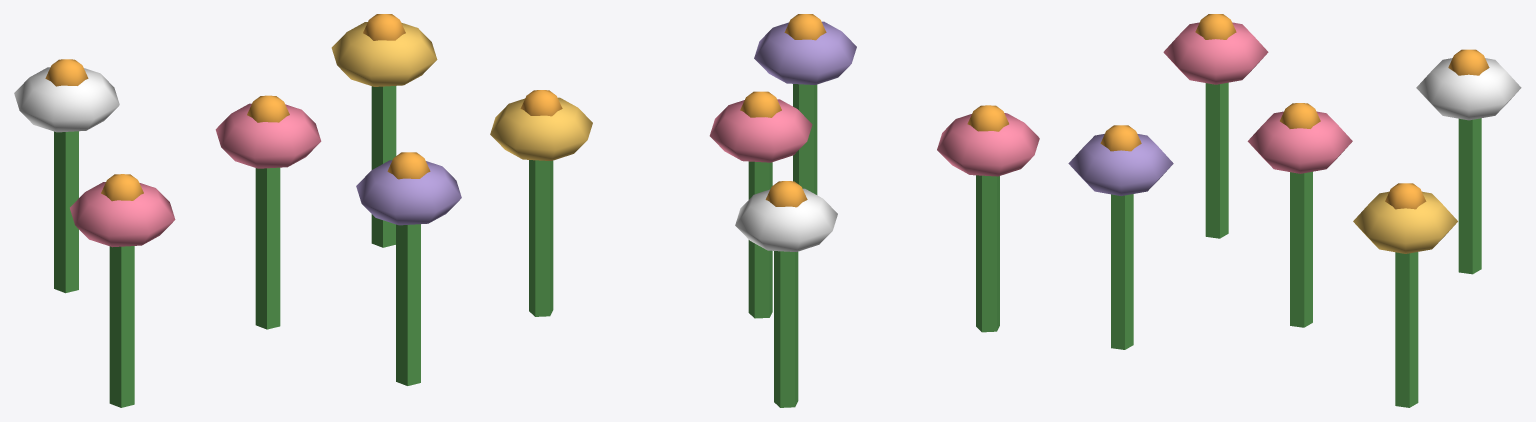
File: flowers.glb
3 renders of one model, left to right at view 1: azimuth 30°, elevation 25°; view 2: azimuth 150°, elevation 25°; view 3: azimuth 270°, elevation 25°, orthographic. The views are drawn at different scales.
Visible parts, largest first — view 1: Petal0, Petal1, Petal2, Petal3, Petal4, Stem0, Stem4, Stem3, Stem2, Stem1, Middle0, Middle2 (+3 smaller); view 2: Petal4, Petal0, Petal2, Petal1, Petal3, Stem1, Stem2, Stem4, Stem0, Stem3, Middle0, Middle4 (+3 smaller); view 3: Petal0, Petal2, Petal1, Petal3, Petal4, Stem4, Stem1, Stem2, Stem0, Stem3, Middle2, Middle3 (+3 smaller).
Boxes of the visible parts, bbox=[...] form: Petal0: bbox=[215, 103, 321, 168]; Petal1: bbox=[331, 22, 437, 86]; Petal2: bbox=[14, 67, 119, 132]; Petal3: bbox=[356, 160, 461, 225]; Petal4: bbox=[70, 182, 175, 247]; Stem0: bbox=[255, 167, 280, 329]; Stem4: bbox=[109, 246, 134, 407]; Stem3: bbox=[396, 224, 420, 385]; Stem2: bbox=[54, 131, 78, 293]; Stem1: bbox=[371, 86, 396, 247]; Middle0: bbox=[247, 95, 289, 122]; Middle2: bbox=[45, 59, 88, 86]; Petal4: bbox=[937, 113, 1039, 176]; Petal0: bbox=[709, 99, 812, 162]; Petal2: bbox=[735, 188, 837, 251]; Petal1: bbox=[490, 97, 592, 160]; Petal3: bbox=[754, 21, 856, 84]; Stem1: bbox=[529, 160, 553, 316]; Stem2: bbox=[774, 251, 798, 407]; Stem4: bbox=[976, 175, 999, 332]; Stem0: bbox=[748, 161, 772, 318]; Stem3: bbox=[793, 84, 817, 194]; Middle0: bbox=[740, 91, 781, 117]; Middle4: bbox=[967, 105, 1008, 131]; Petal0: bbox=[1247, 111, 1352, 173]; Petal2: bbox=[1416, 58, 1521, 120]; Petal1: bbox=[1353, 191, 1457, 253]; Petal3: bbox=[1068, 133, 1173, 195]; Petal4: bbox=[1163, 22, 1268, 84]; Stem4: bbox=[1205, 82, 1228, 238]; Stem1: bbox=[1395, 252, 1418, 407]; Stem2: bbox=[1458, 118, 1481, 274]; Stem0: bbox=[1290, 171, 1312, 327]; Stem3: bbox=[1111, 194, 1133, 349]; Middle2: bbox=[1448, 49, 1489, 75]; Middle3: bbox=[1100, 125, 1141, 151].
Size of the model in its own units: 0.48 by 0.23 by 0.43.
